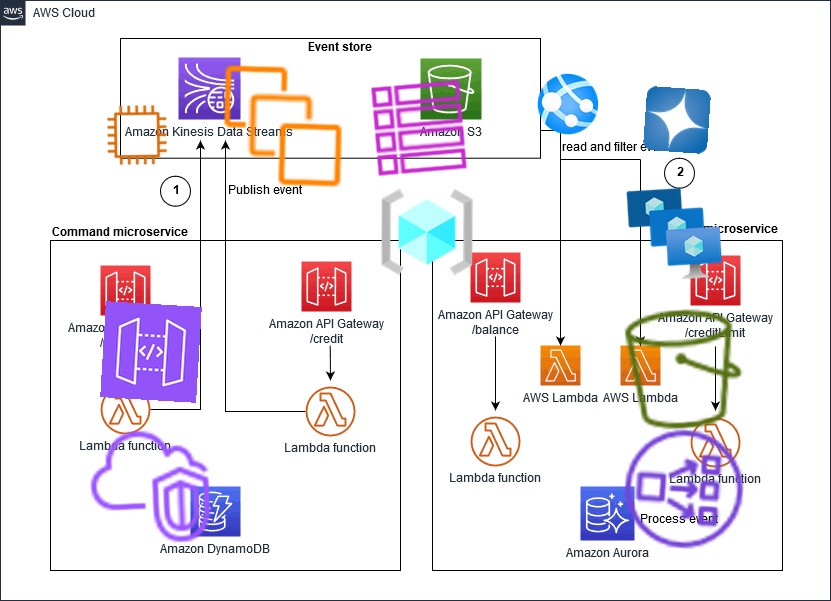aws_amazon_api_gateway: (100, 301, 202, 403)
aws_dynamodb_table: (367, 76, 471, 180)
aws_ec2_instance: (104, 102, 170, 168)
aws_ec2_instances: (217, 60, 349, 192)
aws_elastic_load_balancing_network_load_balancer: (615, 420, 753, 558)
aws_simple_storage_service_s3_standard: (615, 300, 753, 438)
aws_vpc_virtual_private_cloud_vpc: (83, 420, 217, 554)
azure_app_services: (534, 70, 602, 138)
azure_openai: (642, 85, 712, 155)
azure_resource_groups: (378, 183, 476, 281)
azure_vm_scale_sets: (622, 181, 724, 283)
